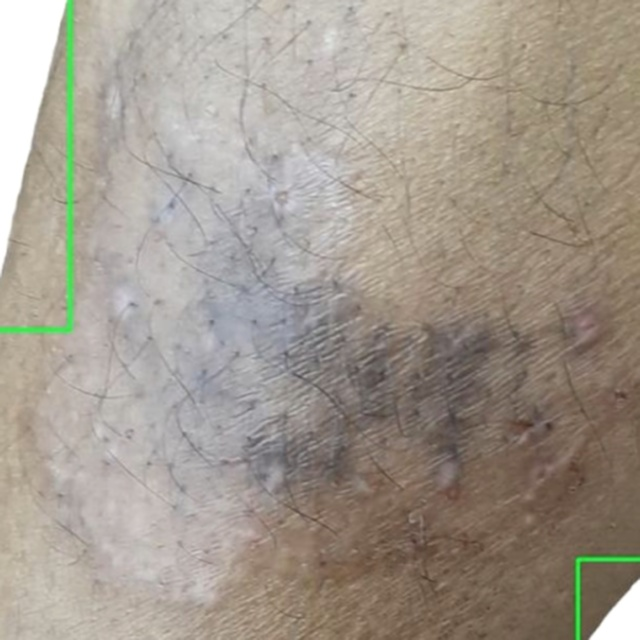Tinea Corporis: (0, 0, 69, 329), (577, 559, 639, 639)
